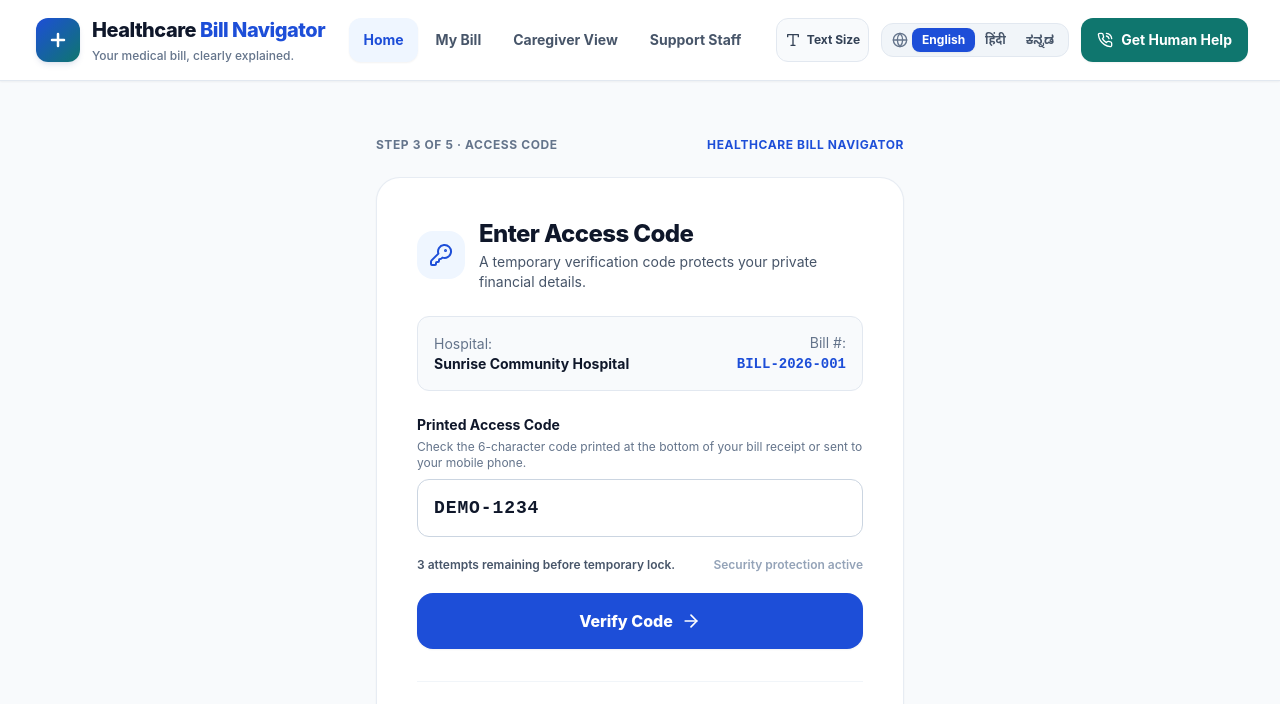
AccessCodePage › decrements remaining attempts on invalid code entry
The width and height of the screenshot is (1280, 704).
Replace the text in the field labelled "Printed Access Code" with "WRONG1" at (640, 508), box left=417, top=479, right=863, bottom=537
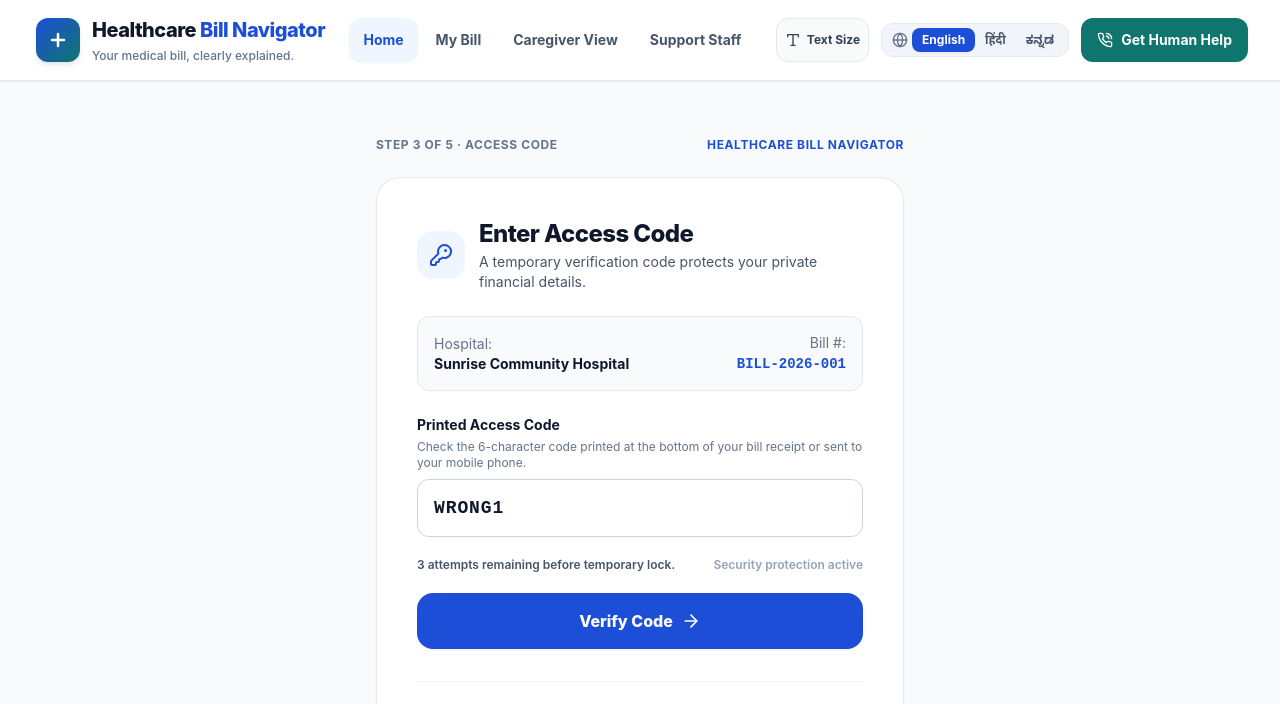
Click the button "Verify Code" at (640, 621), box left=417, top=593, right=863, bottom=649
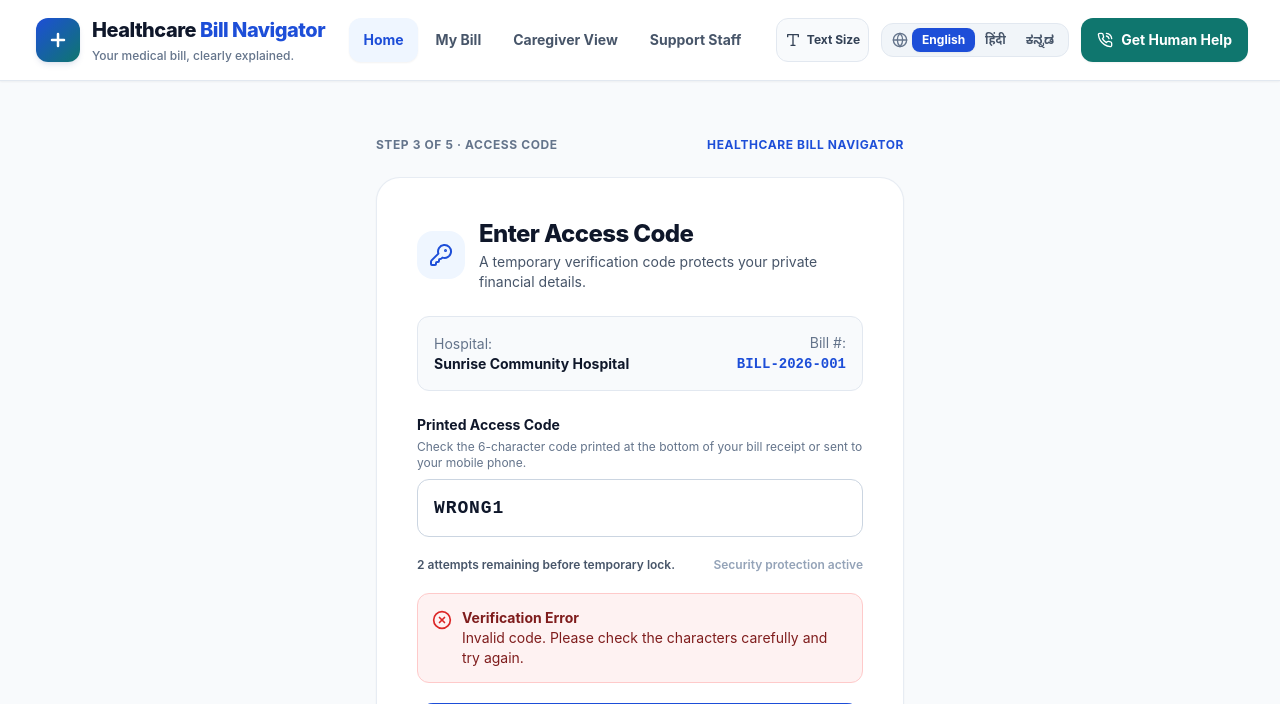
Now the text "Invalid code" is shown, box left=462, top=629, right=827, bottom=666
Now the text "2 attempts remaining before temporary lock." is shown, box left=417, top=557, right=675, bottom=573
